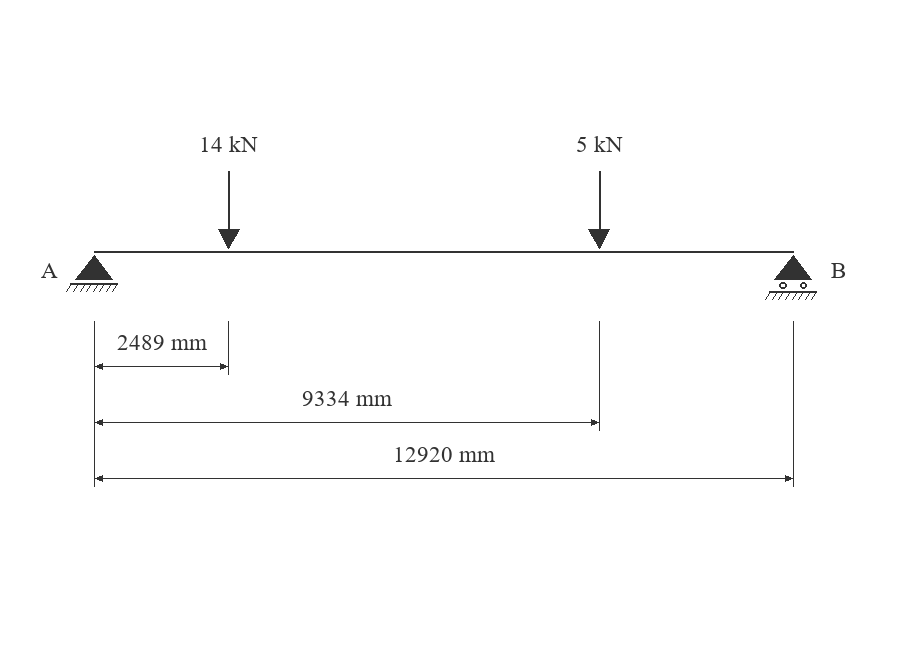pin_support: (66, 255, 118, 292)
point_load: (218, 171, 240, 249), (588, 171, 610, 249)
roller_support: (765, 255, 817, 300)
